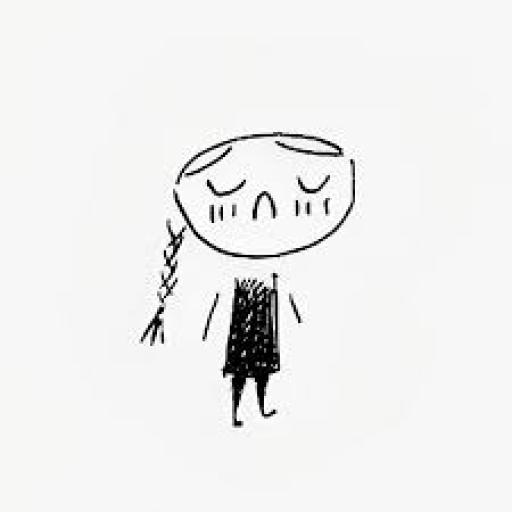person: (134, 125, 372, 449)
